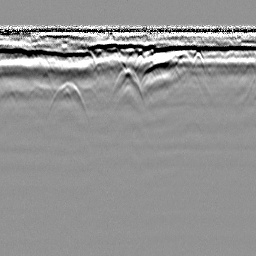cavity: (110, 66, 143, 100)
